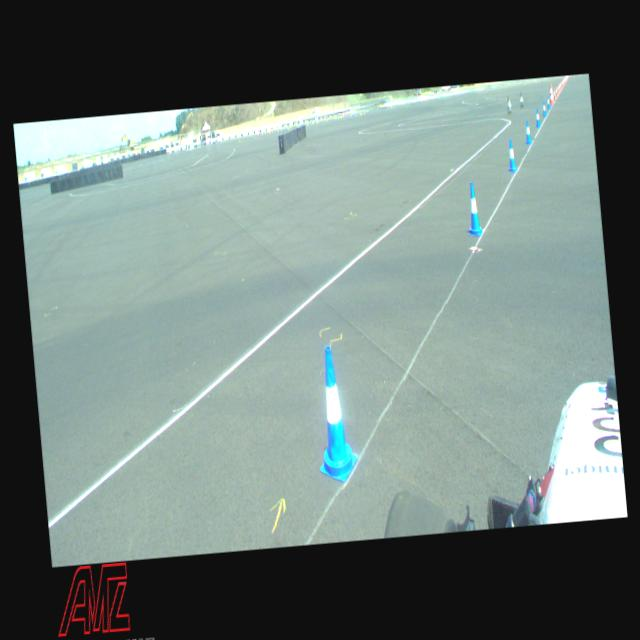blue_cone: (310, 344, 360, 484), (464, 182, 484, 236), (506, 138, 517, 172), (524, 120, 532, 143), (534, 108, 540, 126), (542, 101, 546, 116), (546, 96, 550, 109)
large_orange_cone: (548, 85, 554, 103), (550, 84, 554, 102)
orange_cone: (552, 88, 556, 99), (556, 85, 560, 94), (555, 86, 558, 96), (559, 80, 561, 90), (558, 83, 560, 92), (560, 80, 562, 88)
